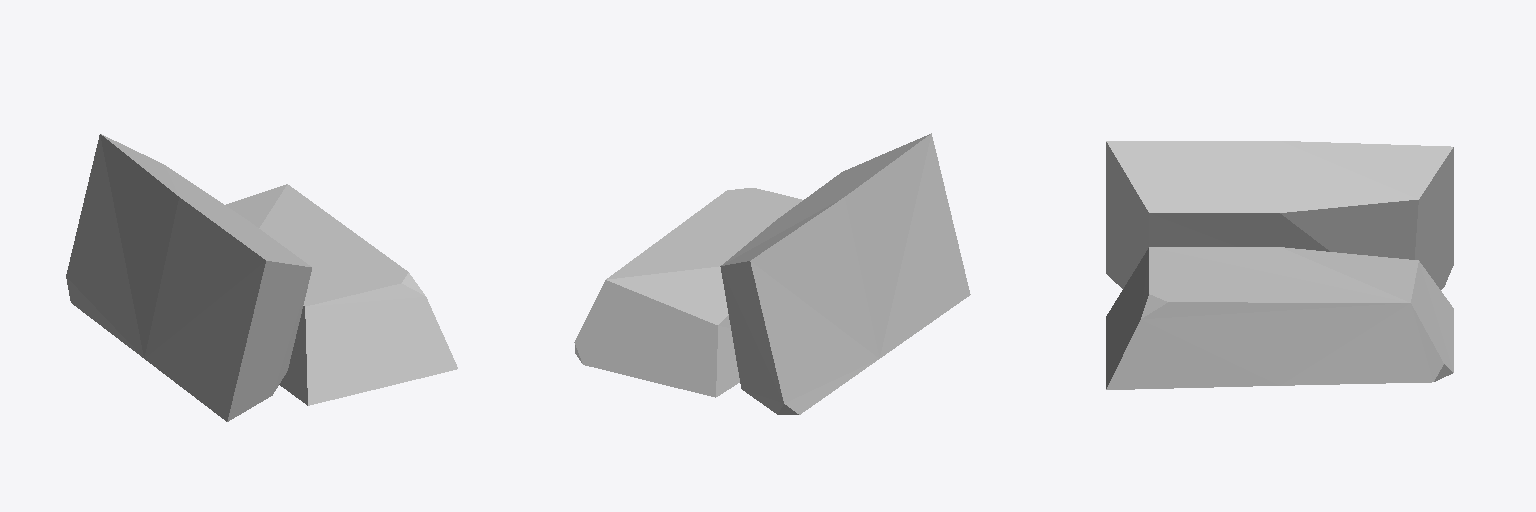
Rendered from Gold-03.obj.
3 renders of one model, left to right at view 1: azimuth 30°, elevation 25°; view 2: azimuth 150°, elevation 25°; view 3: azimuth 270°, elevation 25°, orthographic.
Parts seen in each view (by area): view 1: Gold_03; view 2: Gold_03; view 3: Gold_03.
Boxes of the visible parts, x1=… form: Gold_03: x1=66, y1=134, x2=457, y2=421; Gold_03: x1=574, y1=133, x2=970, y2=414; Gold_03: x1=1106, y1=141, x2=1453, y2=389.
Size of the model in its own units: 0.1152 by 0.074 by 0.15.